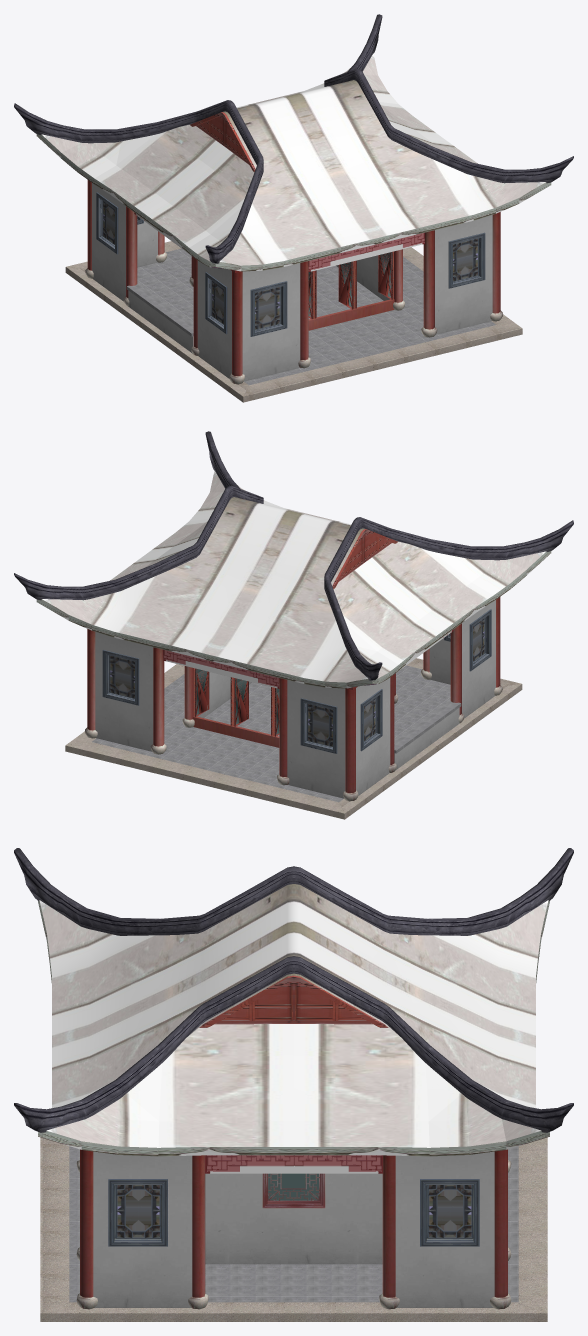
Rendered from Hourse05.FBX.
3 renders of one model, top to bottom at view 1: azimuth 30°, elevation 25°; view 2: azimuth 150°, elevation 25°; view 3: azimuth 270°, elevation 25°, orthographic. The views are drawn at different scales.
Visible parts, largest first — view 1: 对象04, 对象45, 对象02, 对象07, Box01, Cylinder19, 对象109, 对象108, Plane09, 对象09, 对象10, Box04 (+3 smaller); view 2: 对象04, 对象45, 对象02, 对象07, Box01, Cylinder19, 对象109, 对象108, Plane09, 对象09, 对象10, Box75 (+3 smaller); view 3: 对象04, 对象45, 对象07, Box01, 对象02, Cylinder19, 对象108, 对象09, Plane09, 对象109, 对象110, 对象112.
Part boxes in pixels (x1=…): 对象04: x1=36, y1=53, x2=551, y2=271; 对象45: x1=92, y1=183, x2=492, y2=381; 对象02: x1=137, y1=248, x2=495, y2=385; 对象07: x1=14, y1=14, x2=573, y2=263; Box01: x1=65, y1=241, x2=522, y2=402; Cylinder19: x1=85, y1=180, x2=502, y2=384; 对象109: x1=96, y1=192, x2=485, y2=336; 对象108: x1=102, y1=201, x2=478, y2=329; Plane09: x1=134, y1=212, x2=424, y2=271; 对象09: x1=190, y1=112, x2=255, y2=171; 对象10: x1=128, y1=291, x2=193, y2=353; Box04: x1=308, y1=299, x2=394, y2=330; 对象04: x1=36, y1=470, x2=551, y2=688; 对象45: x1=95, y1=600, x2=495, y2=798; 对象02: x1=92, y1=665, x2=450, y2=802; 对象07: x1=14, y1=431, x2=573, y2=680; Box01: x1=65, y1=658, x2=522, y2=819; Cylinder19: x1=85, y1=597, x2=502, y2=801; 对象109: x1=102, y1=609, x2=491, y2=753; 对象108: x1=109, y1=618, x2=485, y2=746; Plane09: x1=163, y1=629, x2=453, y2=688; 对象09: x1=332, y1=529, x2=397, y2=588; 对象10: x1=394, y1=708, x2=459, y2=770; Box75: x1=193, y1=716, x2=279, y2=747; 对象04: x1=38, y1=884, x2=549, y2=1156; 对象45: x1=93, y1=1151, x2=494, y2=1307; 对象07: x1=14, y1=848, x2=573, y2=1132; Box01: x1=40, y1=1137, x2=547, y2=1321; 对象02: x1=69, y1=1146, x2=518, y2=1302; Cylinder19: x1=76, y1=1149, x2=511, y2=1309; 对象108: x1=114, y1=1185, x2=473, y2=1238; 对象09: x1=199, y1=975, x2=388, y2=1027; Plane09: x1=205, y1=1155, x2=382, y2=1173; 对象109: x1=108, y1=1179, x2=479, y2=1246; 对象110: x1=267, y1=1173, x2=320, y2=1201; 对象112: x1=262, y1=1173, x2=325, y2=1208.
Size of the model in its own units: 9.72 by 5.51 by 8.95.
